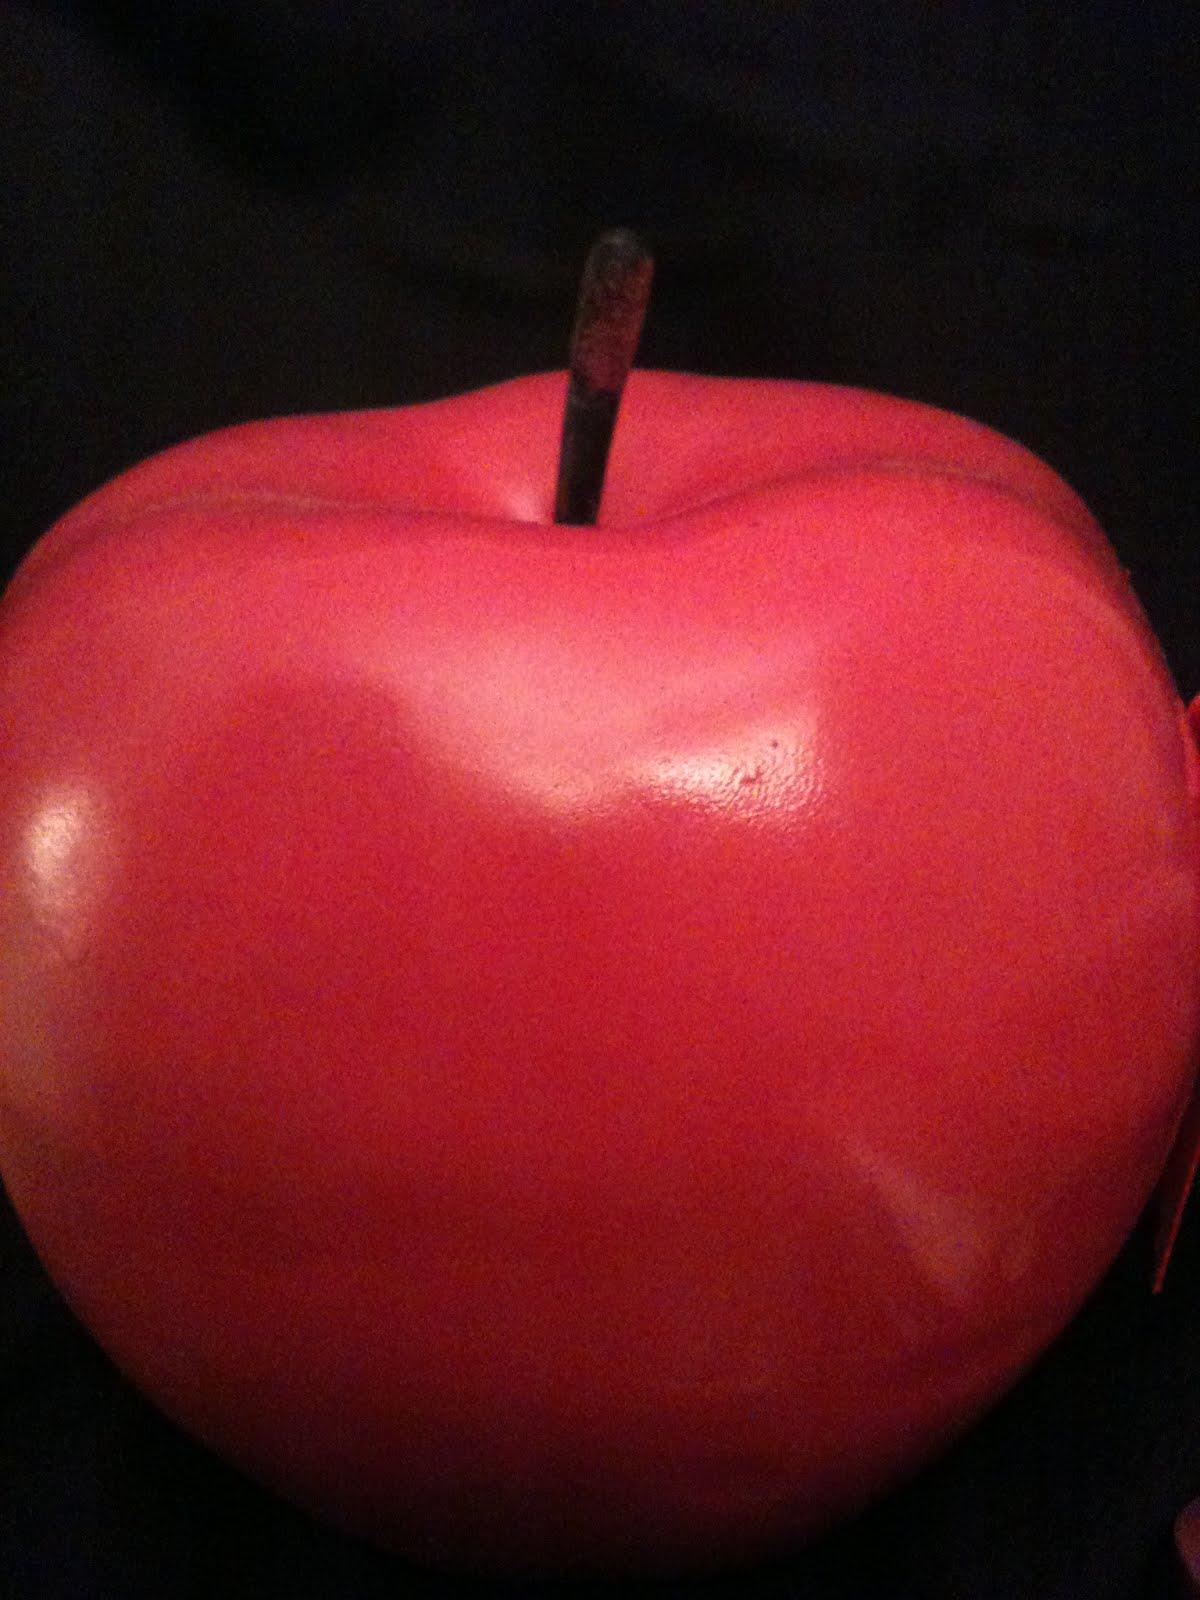apple: (0, 203, 1200, 1522)
